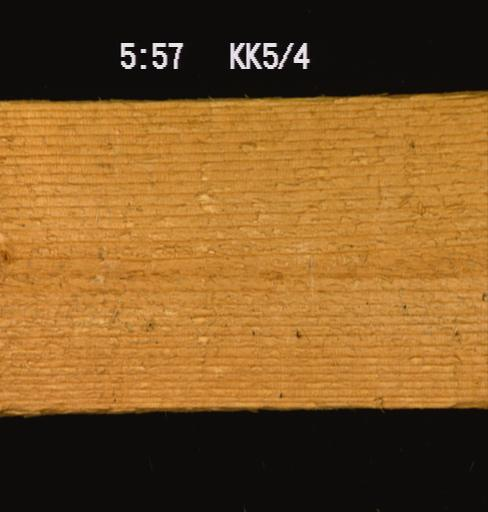small_knot: (0, 241, 12, 268)
wave: (441, 393, 486, 407)
